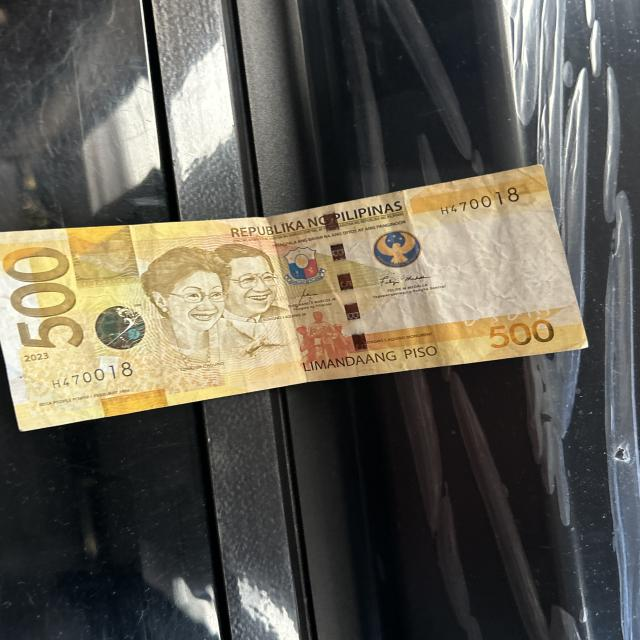concealed_value: (64, 230, 142, 287)
optically_variable_device: (96, 305, 148, 349)
